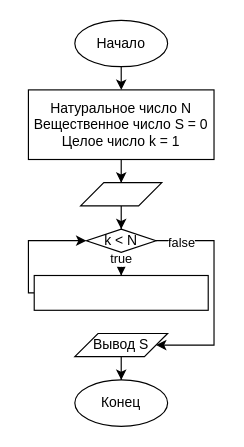
The diagram is 244 pixels wide and 447 high, and some of its shapes have lost their labels. The centre of each missing label's shape, as x and y in pixels:
"S += pow(-0.9, k) / (4.5 - k) ++k" goes at point (120, 292).
"Ввод N" goes at point (120, 194).
